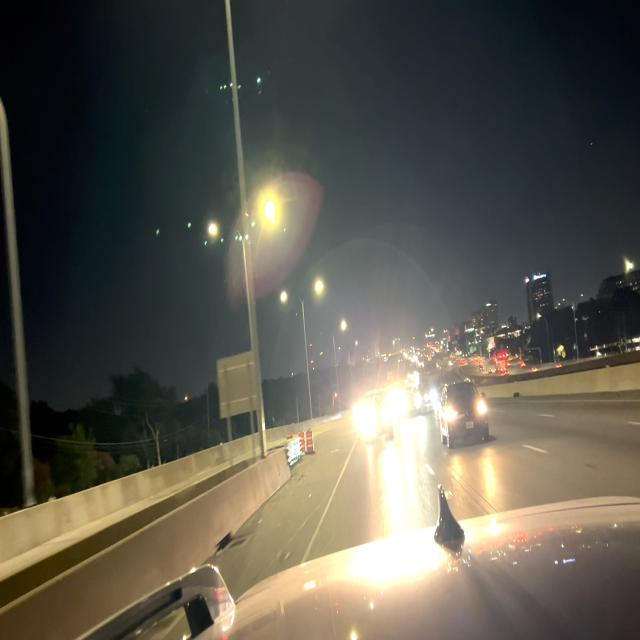back-of-sign: (216, 350, 259, 425)
